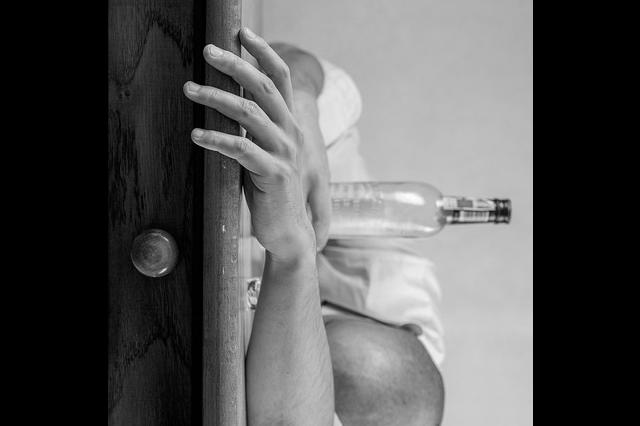Non_Gorille: (177, 50, 533, 426)
